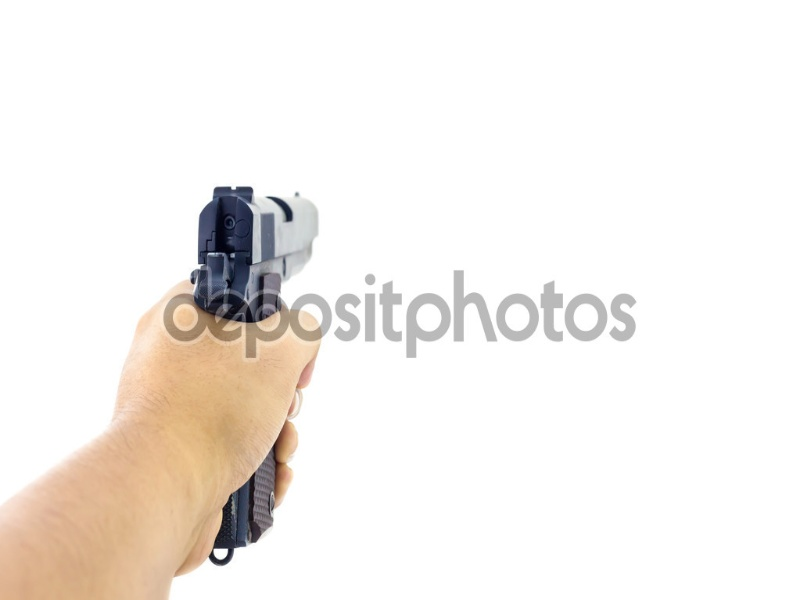gun: (166, 178, 343, 573)
